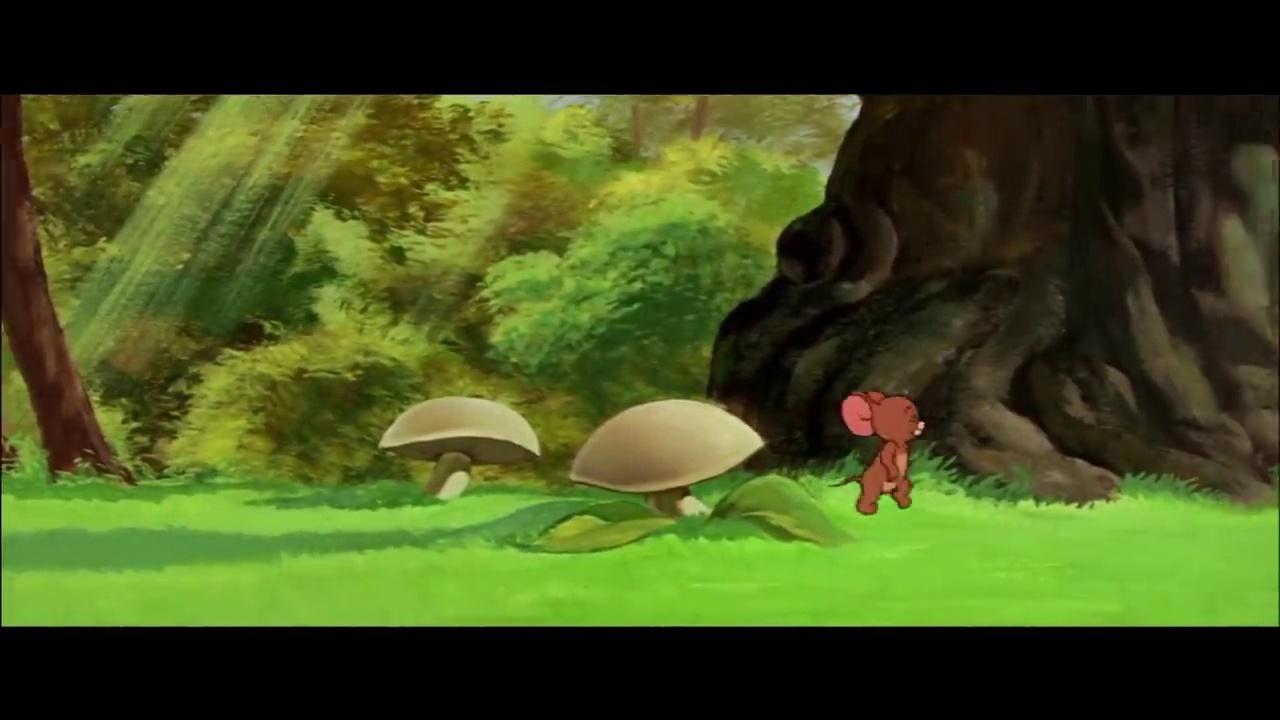Jerry: (825, 387, 929, 517)
